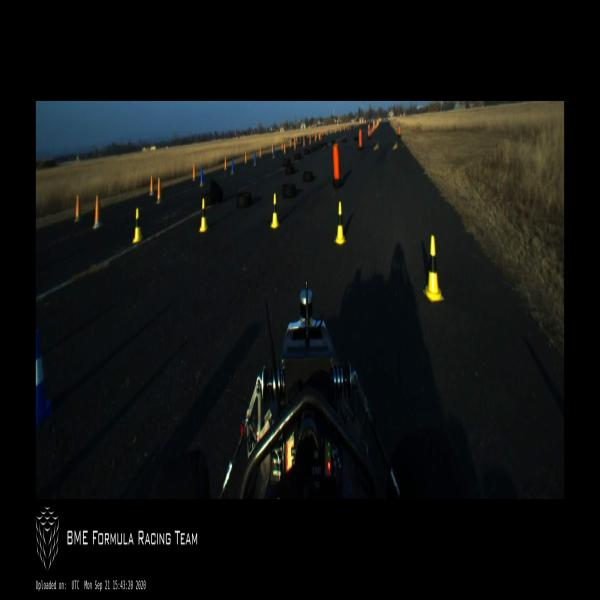blue_cone: (36, 329, 52, 427)
unknown_cone: (93, 194, 103, 229), (74, 194, 82, 221), (156, 178, 163, 204), (199, 164, 205, 187), (149, 175, 155, 196), (230, 156, 235, 176), (192, 163, 196, 181), (224, 155, 227, 171)
yellow_cone: (423, 234, 444, 303), (334, 200, 347, 244), (270, 193, 280, 229), (133, 208, 142, 243), (199, 199, 208, 232)
